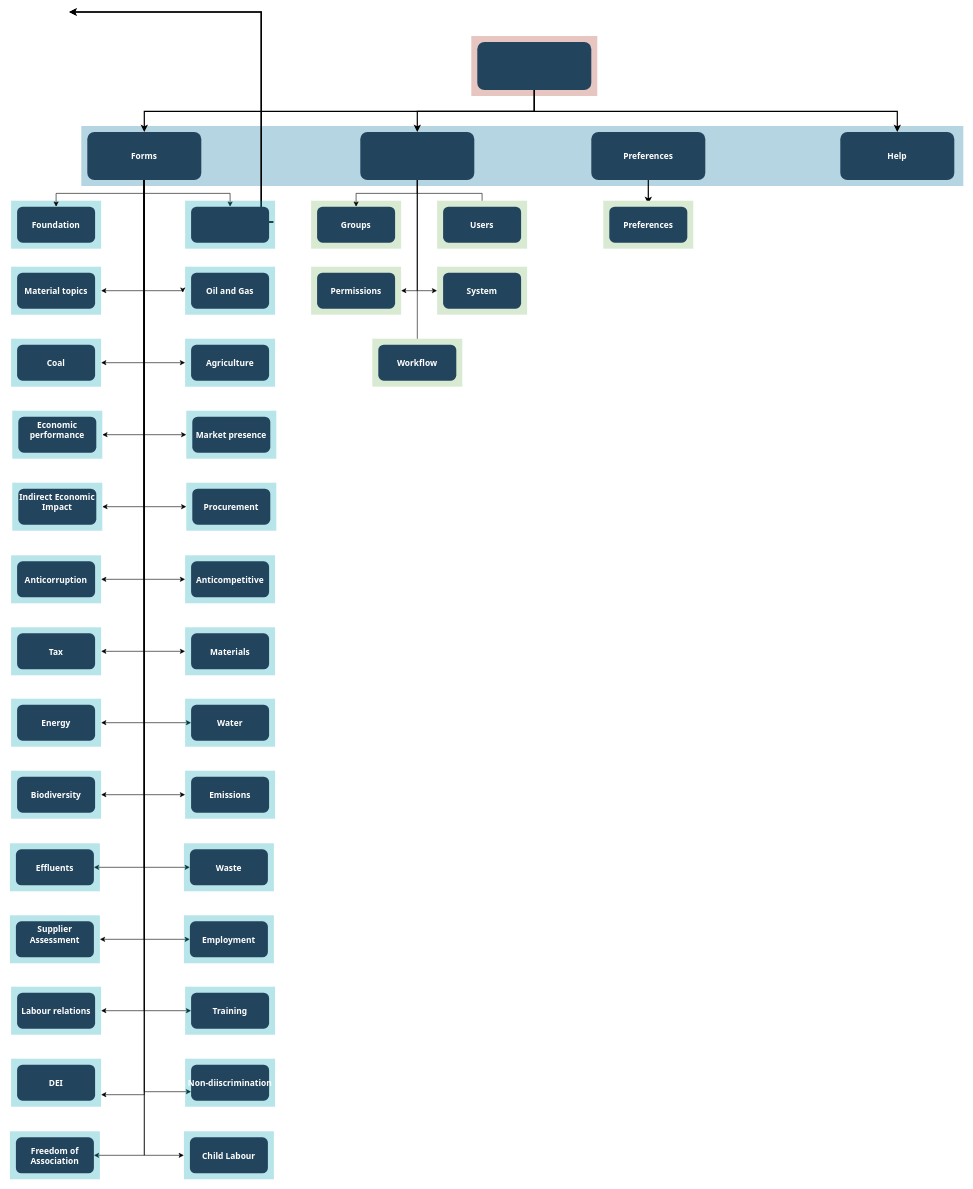
Image size: 973x1189. Some labels were removed from this diagram. The shapes that lost their labels are listed below. From the top down, each one's centre as x and y in pixels, then its label:
At point 534,66: "Dashboard".
At point 417,156: "Configuration".
At point 230,224: "General disclosures".
